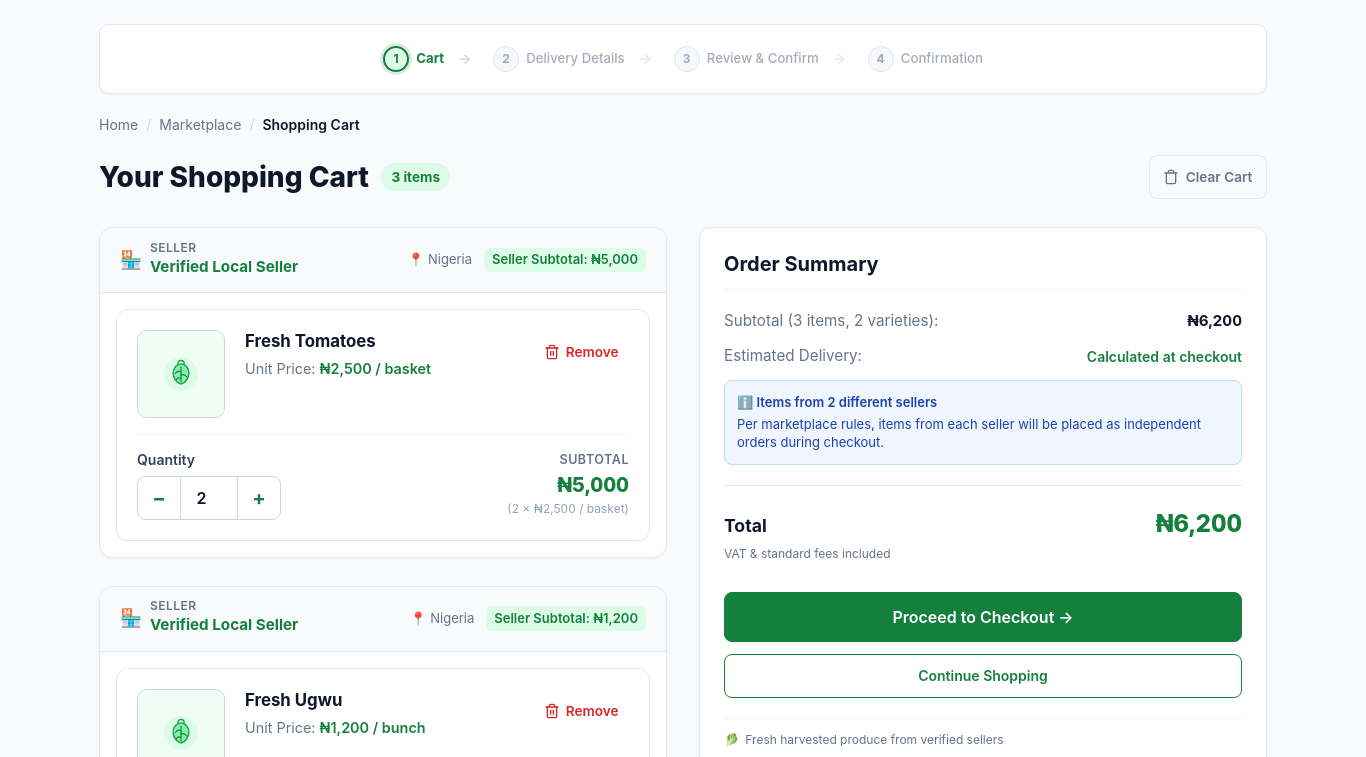
Test: Empty Cart State (FE-057 / CART-05, TC-11, ERR-01) › 3. Dynamic Transition to Empty Cart State › transitions to empty cart state when user clears cart via confirm dialog
# Click Clear Cart button
Click the button with test id "clear-cart-button". click: (1208,177)
box: [1149,155,1267,199]
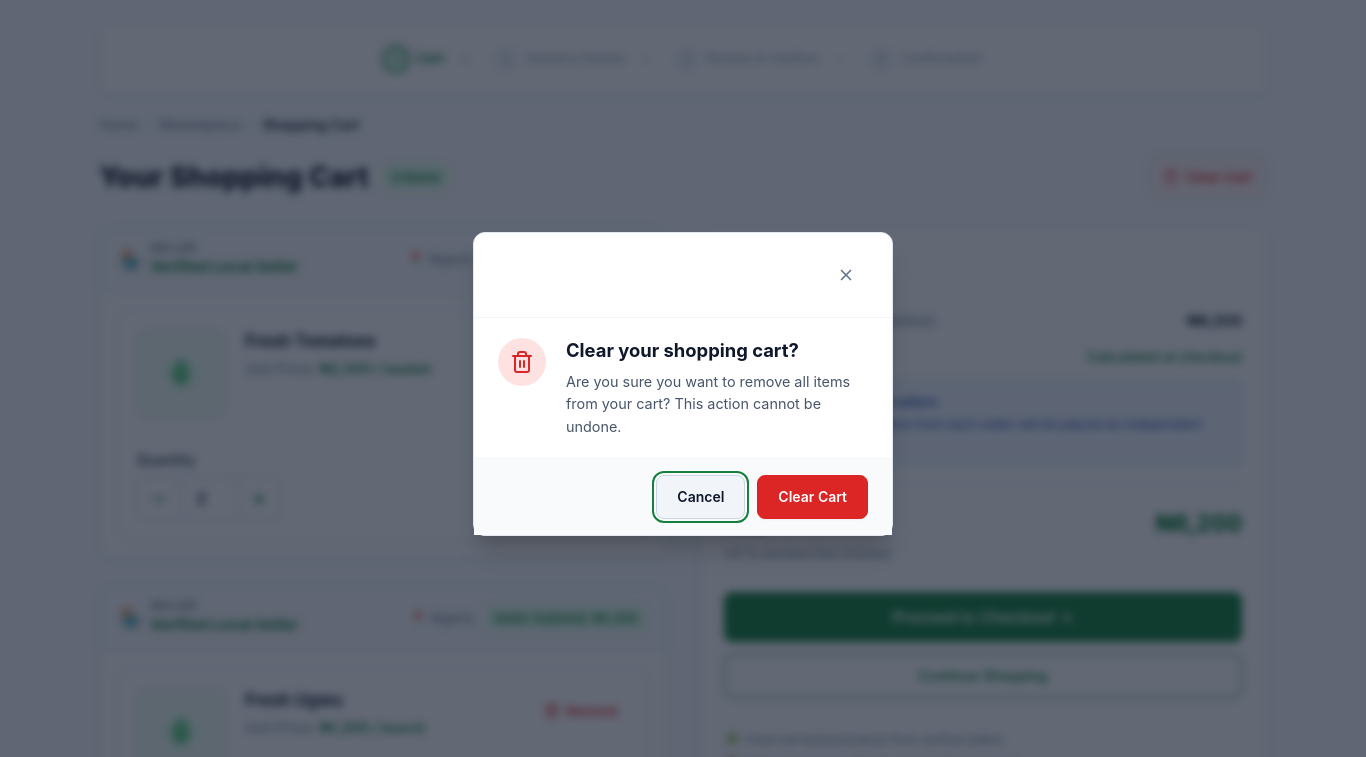
Now the heading "Clear your shopping cart?" is shown, box [566,339,799,361]
# Confirm clearance
Click the button with test id "clear-cart-dialog-confirm-button". click: (813,497)
box: [757,475,868,519]
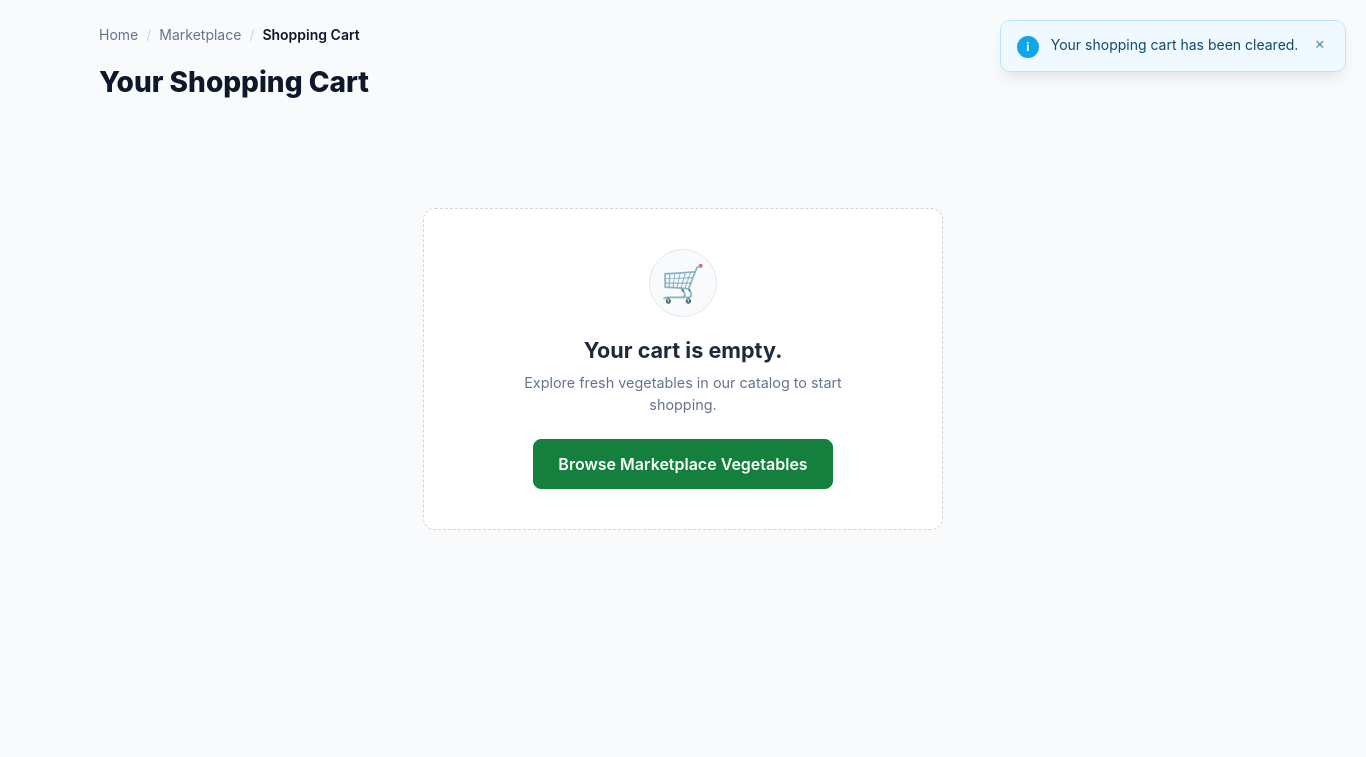
Now the heading "Your cart is empty." is shown, box [584,337,782,363]
Now the link with test id "cart-checkout-button" is gone
